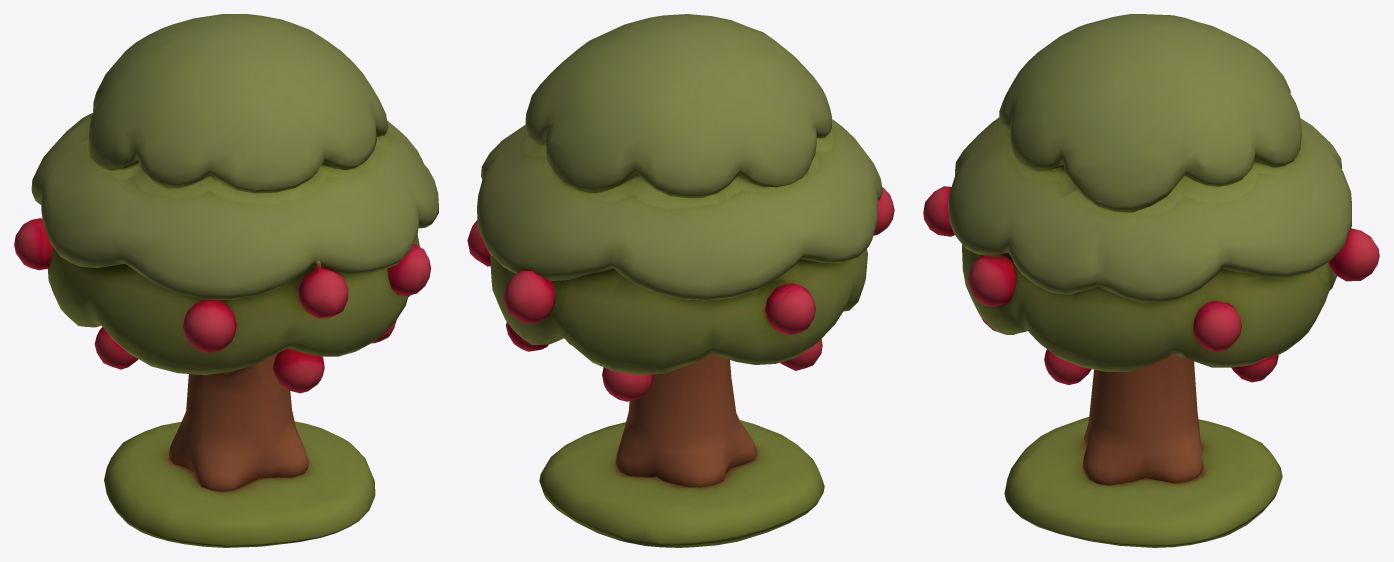
Rendered from boulderberry-tree.glb.
The picture shows the model from 3 angles, left to right: view 1: azimuth 30°, elevation 25°; view 2: azimuth 150°, elevation 25°; view 3: azimuth 270°, elevation 25°; orthographic projection.
Parts seen in each view (by area): view 1: Boulderberry Tree; view 2: Boulderberry Tree; view 3: Boulderberry Tree.
Boxes of the visible parts, <box> form: Boulderberry Tree: <box>14,14,438,547</box>; Boulderberry Tree: <box>467,14,894,547</box>; Boulderberry Tree: <box>923,14,1379,547</box>.
Size of the model in its own units: 0.8184 by 0.998 by 0.9004.
1 material, 1 textured.
